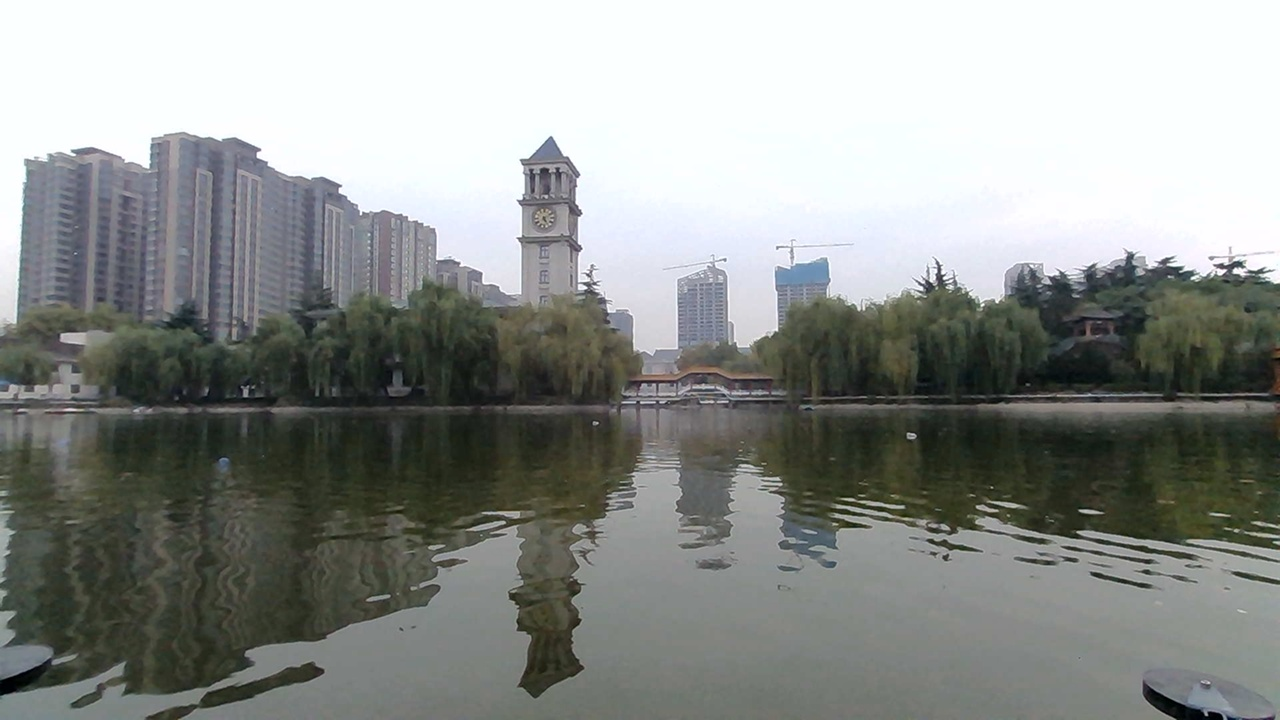bottle: (46, 425, 79, 457), (211, 450, 248, 478), (893, 424, 925, 453)
